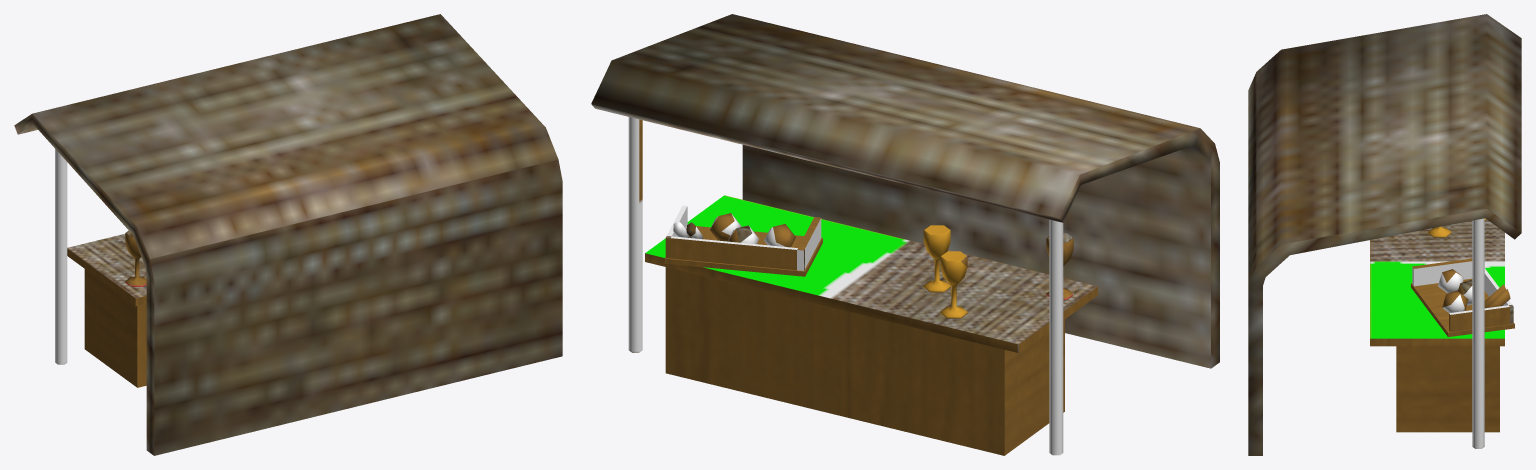
Rendered from stall2.obj.
3 renders of one model, left to right at view 1: azimuth 30°, elevation 25°; view 2: azimuth 150°, elevation 25°; view 3: azimuth 270°, elevation 25°, orthographic. The views are drawn at different scales.
Parts seen in each view (by area): view 1: Cube.001; view 2: Cube.001; view 3: Cube.001.
Part boxes in pixels (box(x1,y1,x2,y2)): Cube.001: box(14, 14, 562, 455); Cube.001: box(591, 14, 1219, 455); Cube.001: box(1248, 14, 1521, 455).
Bounding box in the file's own units: 8.92 × 5.32 × 5.29.
Materials: 1 (1 with a texture image).
